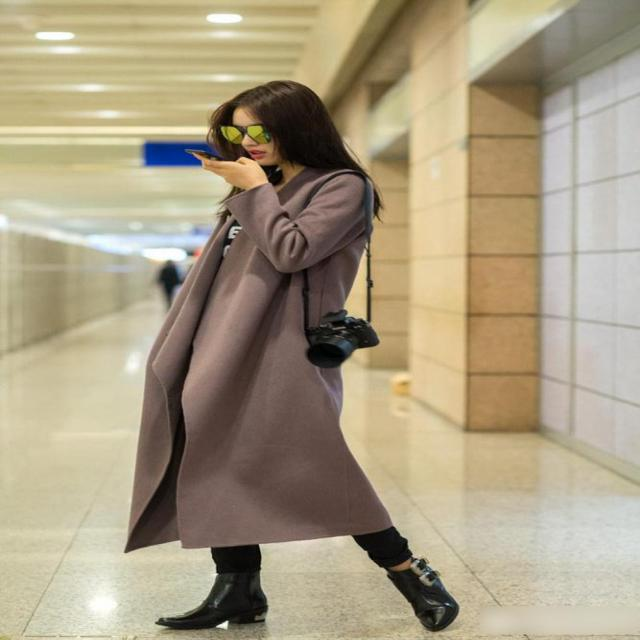Manusia: (76, 65, 514, 640)
